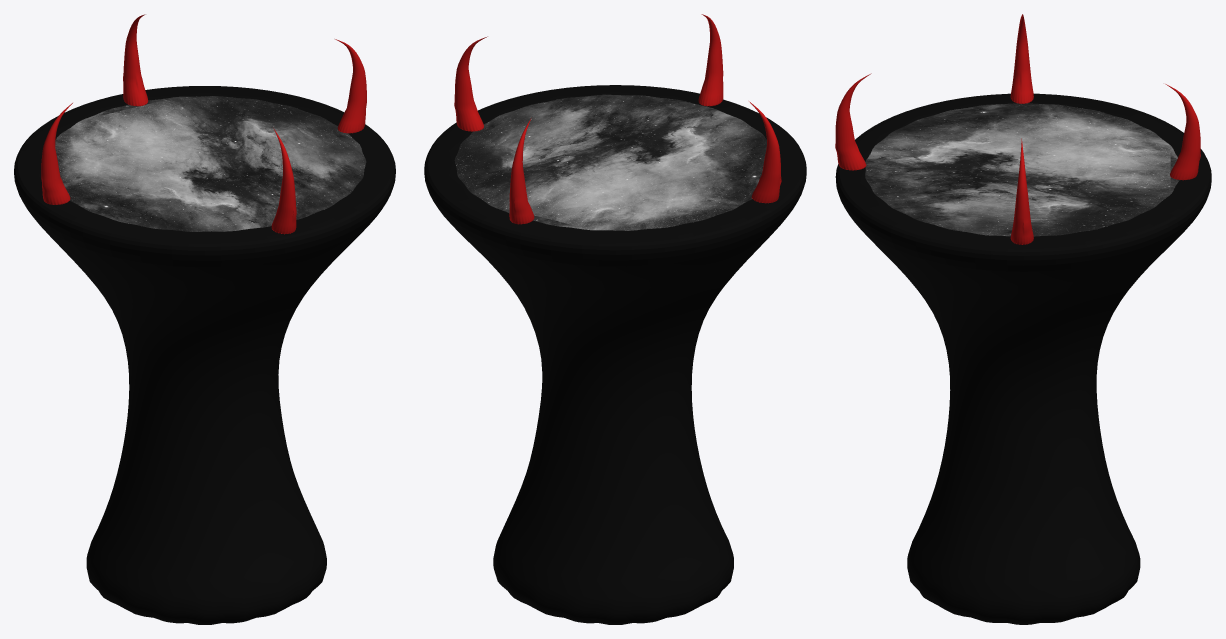
File: immeuble5.FBX
3 renders of one model, left to right at view 1: azimuth 30°, elevation 25°; view 2: azimuth 150°, elevation 25°; view 3: azimuth 270°, elevation 25°, orthographic.
Visible parts, largest first — view 1: Cylindre001, Cylindre002, Cône001, Cône003, Cône002, Cône004; view 2: Cylindre001, Cylindre002, Cône001, Cône003, Cône004, Cône002; view 3: Cylindre001, Cylindre002, Cône004, Cône002, Cône003, Cône001.
Boxes of the visible parts, x1,y1,x2,y2 form: Cylindre001: [14, 86, 395, 624]; Cylindre002: [55, 96, 366, 231]; Cône001: [335, 39, 366, 133]; Cône003: [41, 103, 72, 204]; Cône002: [123, 14, 148, 106]; Cône004: [271, 128, 296, 234]; Cylindre001: [424, 85, 806, 624]; Cylindre002: [454, 94, 766, 230]; Cône001: [454, 36, 487, 131]; Cône003: [749, 101, 781, 203]; Cône004: [698, 14, 723, 106]; Cône002: [509, 118, 534, 224]; Cylindre001: [835, 93, 1211, 624]; Cylindre002: [865, 103, 1179, 236]; Cône004: [835, 73, 871, 170]; Cône002: [1165, 84, 1200, 180]; Cône003: [1010, 14, 1033, 103]; Cône001: [1010, 138, 1033, 244].
Bounding box in the file's own units: 4111 × 6219 × 4117.
Materials: 3 (1 with a texture image).
